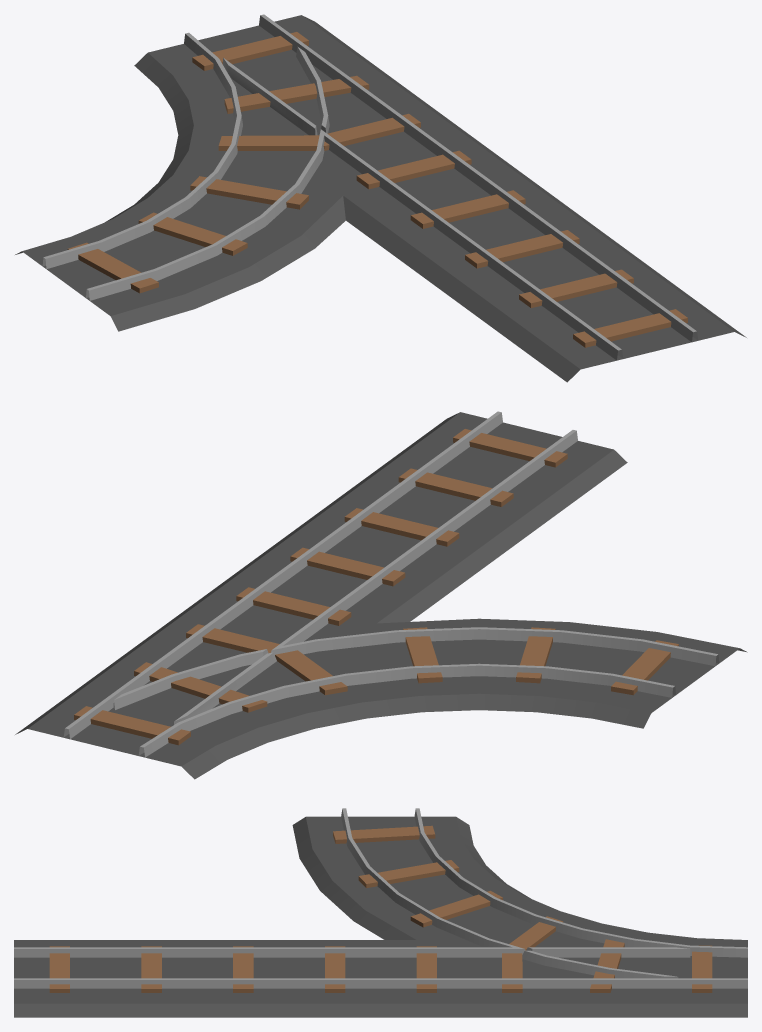
The model's file is 1_Y_curve_right_small.fbx.
3 views of the same model, one above another, from view 1: azimuth 30°, elevation 25°; view 2: azimuth 150°, elevation 25°; view 3: azimuth 270°, elevation 25° (orthographic). The views are drawn at different scales.
Visible parts, largest first — view 1: 1_Y_curve_right_small; view 2: 1_Y_curve_right_small; view 3: 1_Y_curve_right_small.
Part boxes in pixels (box(x1,y1,x2,y2)): 1_Y_curve_right_small: box(15, 14, 746, 382); 1_Y_curve_right_small: box(15, 411, 747, 779); 1_Y_curve_right_small: box(14, 808, 747, 1017).
Size of the model in its own units: 4.96 by 0.2 by 8.
